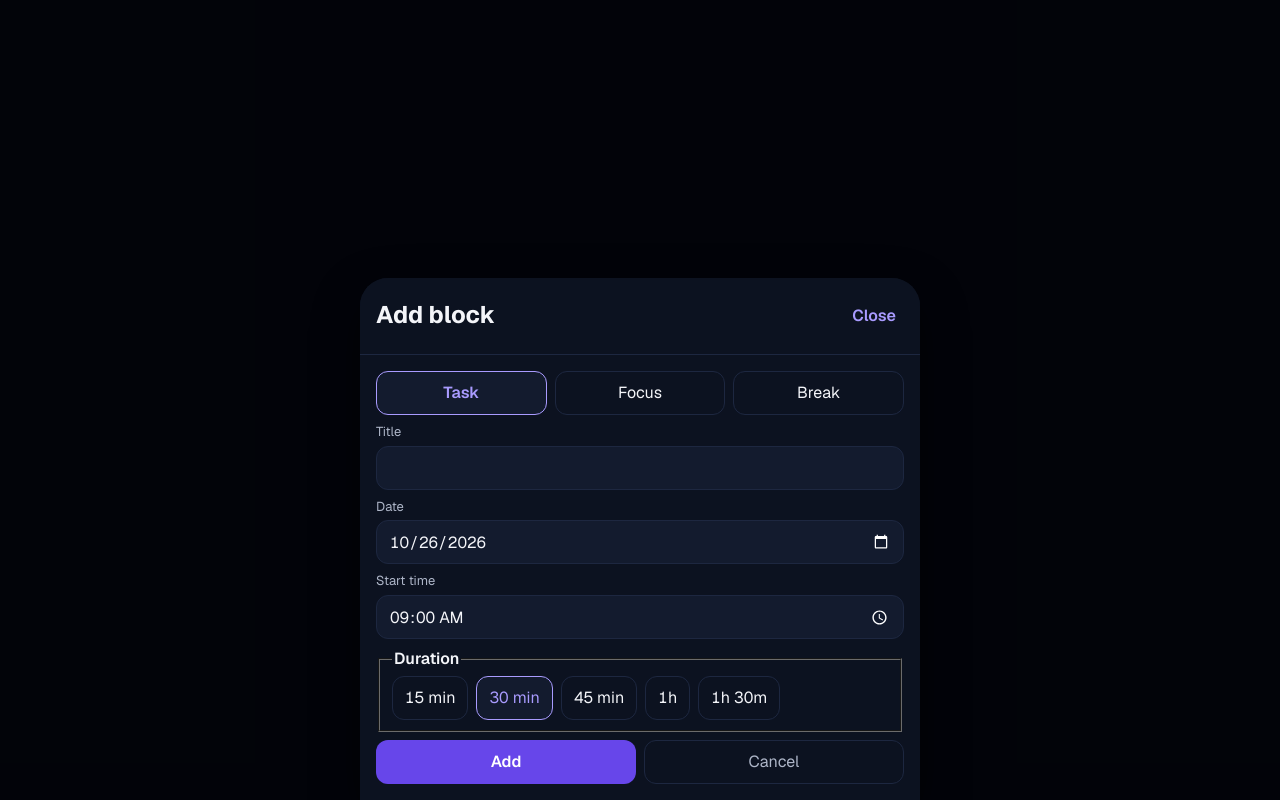
Scenario: shows the use-case error and stays open when adding fails
Type "Draft" into the field labelled "Title" at [640, 468], box [376,446,904,490]
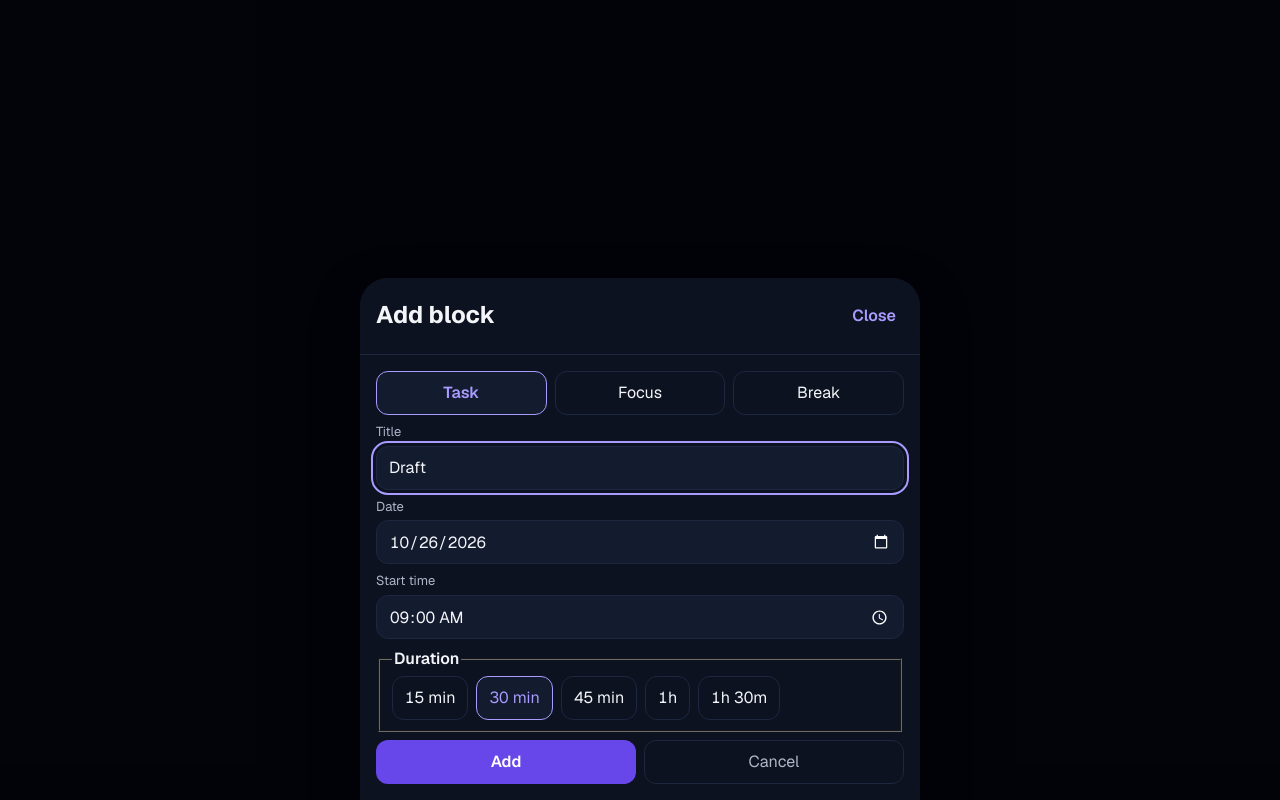
Click the button "Add" at [506, 762], box [376,740,636,784]
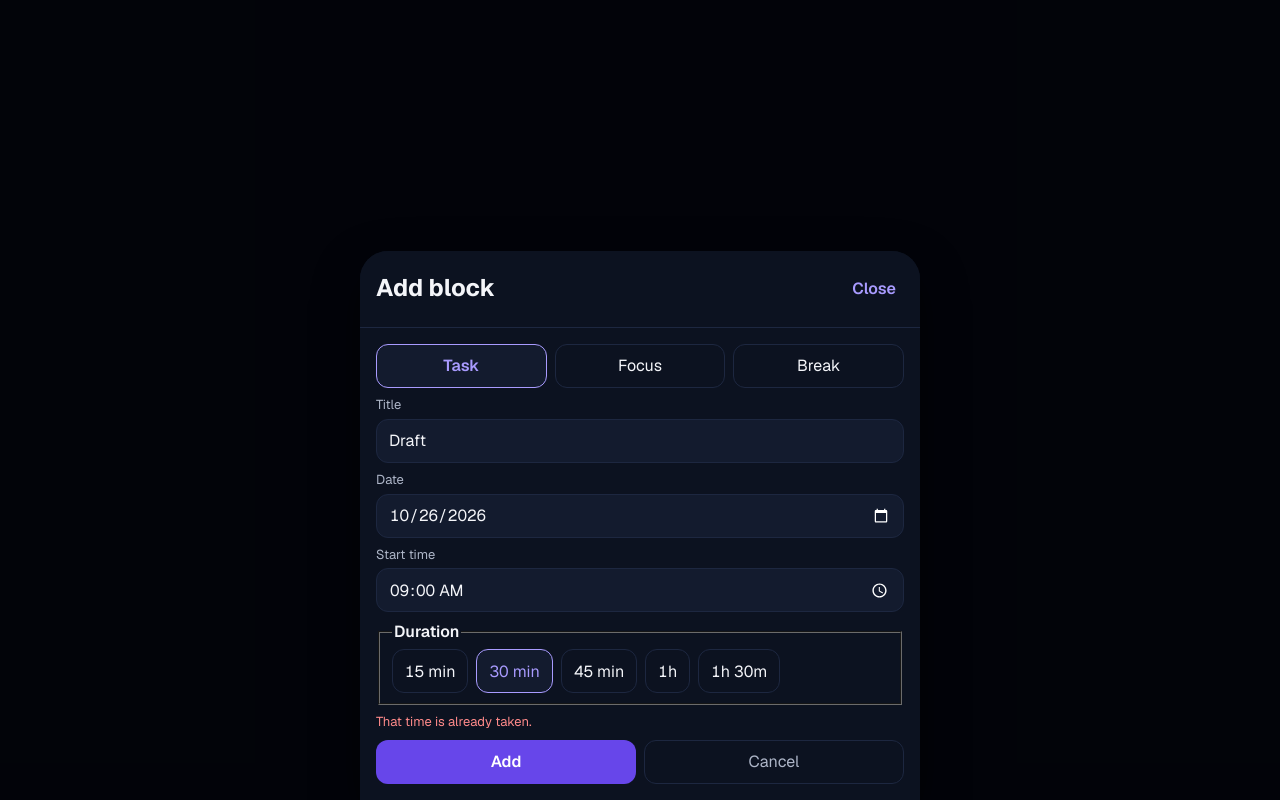
Expected: the message reads "That time is already taken.", [376,713,532,730]
